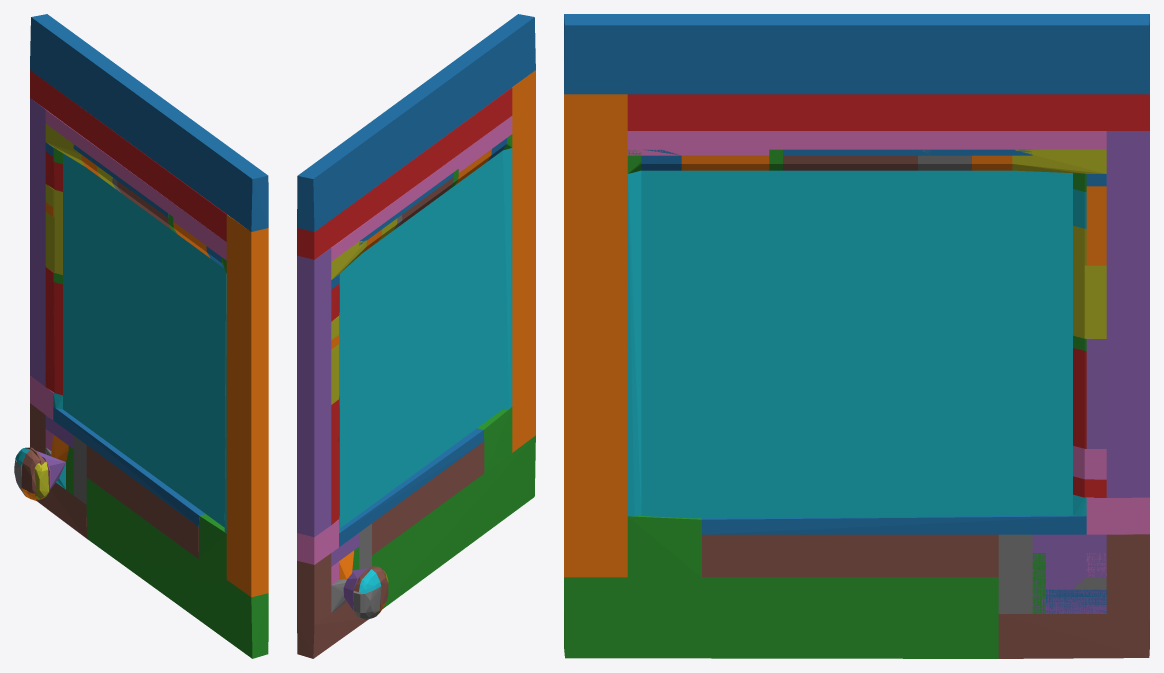
File: Door_01_cvx.obj
3 views of the same model, side by side, from view 1: azimuth 30°, elevation 25°; view 2: azimuth 150°, elevation 25°; view 3: azimuth 270°, elevation 25° (orthographic). The views are drawn at different scales.
Visible parts, largest first — view 1: scenes/apartment_0000_coacd/output/Unknown/Kitchen_Extractor/Doo; view 2: scenes/apartment_0000_coacd/output/Unknown/Kitchen_Extractor/Doo; view 3: scenes/apartment_0000_coacd/output/Unknown/Kitchen_Extractor/Doo.
Boxes of the visible parts, x1,y1,x2,y2 form: scenes/apartment_0000_coacd/output/Unknown/Kitchen_Extractor/Doo: [14, 14, 268, 658]; scenes/apartment_0000_coacd/output/Unknown/Kitchen_Extractor/Doo: [297, 14, 535, 658]; scenes/apartment_0000_coacd/output/Unknown/Kitchen_Extractor/Doo: [564, 14, 1149, 658].
Bounding box in the file's own units: 0.0659 × 0.543 × 0.4543.
